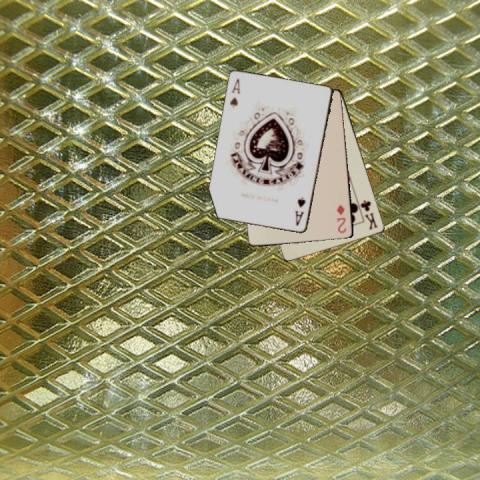2d: (334, 202, 348, 235)
As: (292, 194, 306, 227), (228, 76, 241, 109)
Kc: (358, 197, 379, 231)
